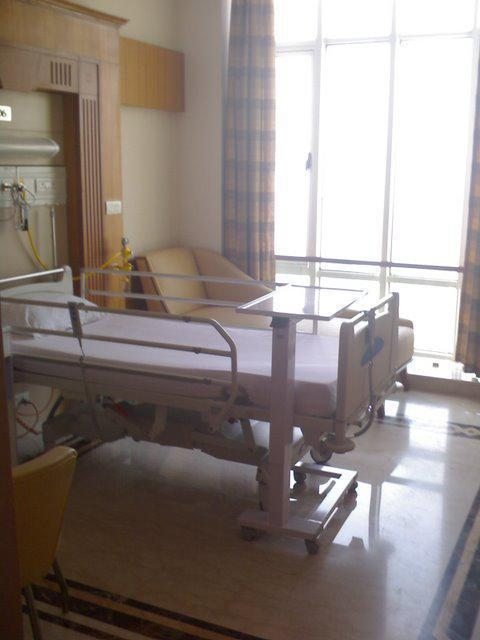Cama: (7, 257, 392, 446)
Ventana: (263, 5, 460, 271)
